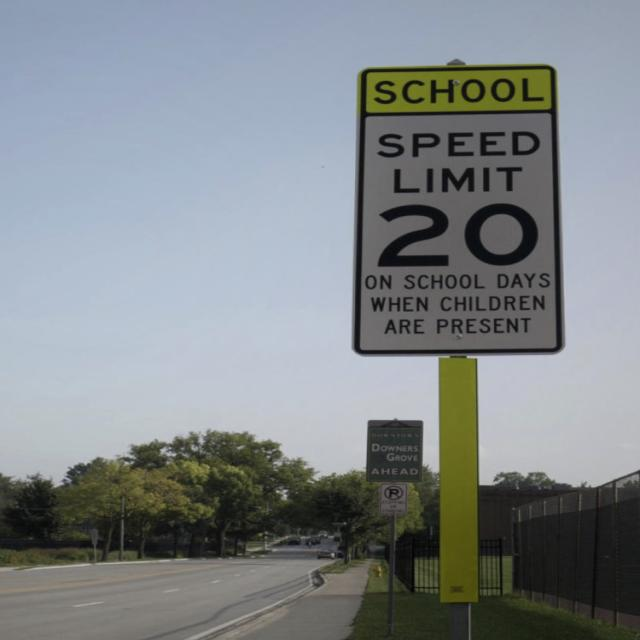speedLimit20: (362, 116, 559, 273)
